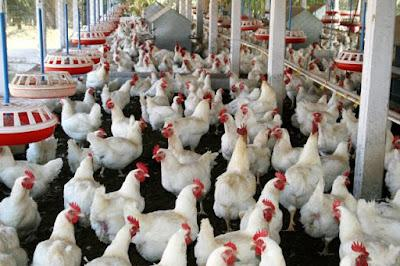chicken: (128, 176, 207, 258), (207, 125, 256, 217), (332, 198, 400, 264), (93, 163, 150, 241), (282, 128, 323, 212), (150, 145, 212, 199), (33, 204, 82, 266), (308, 172, 352, 235), (0, 174, 40, 239), (91, 130, 143, 172), (180, 91, 213, 146), (104, 98, 144, 139)
